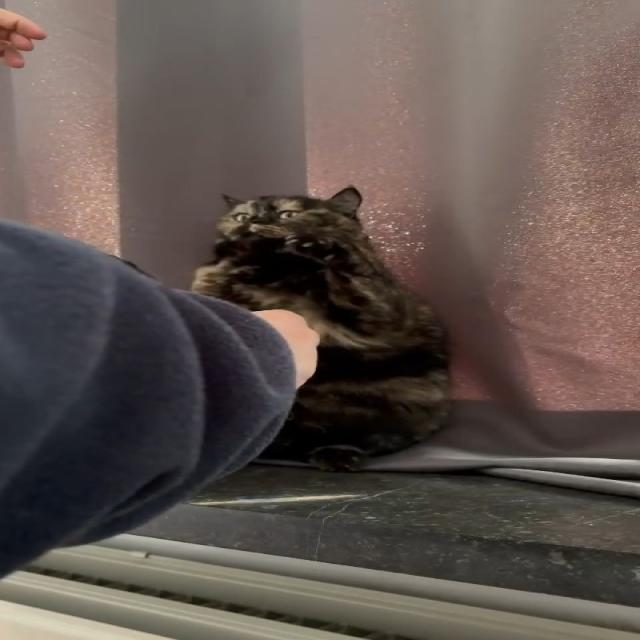authorized: (190, 184, 453, 473)
